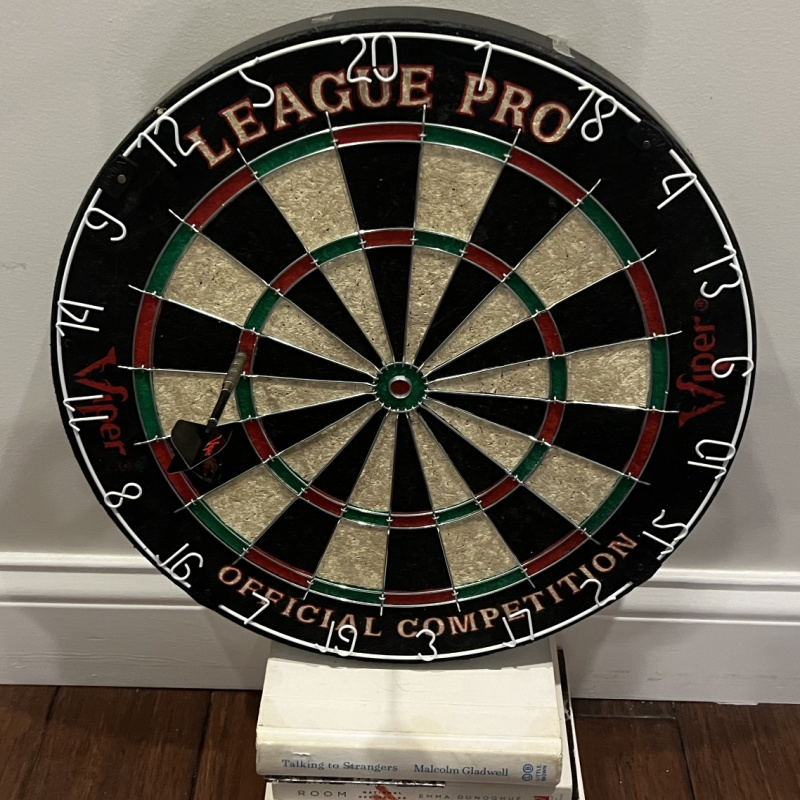dart: (231, 346, 249, 370)
eleven: (59, 390, 108, 431)
six: (708, 353, 756, 379)
three: (416, 626, 436, 661)
twenty: (340, 30, 397, 82)
